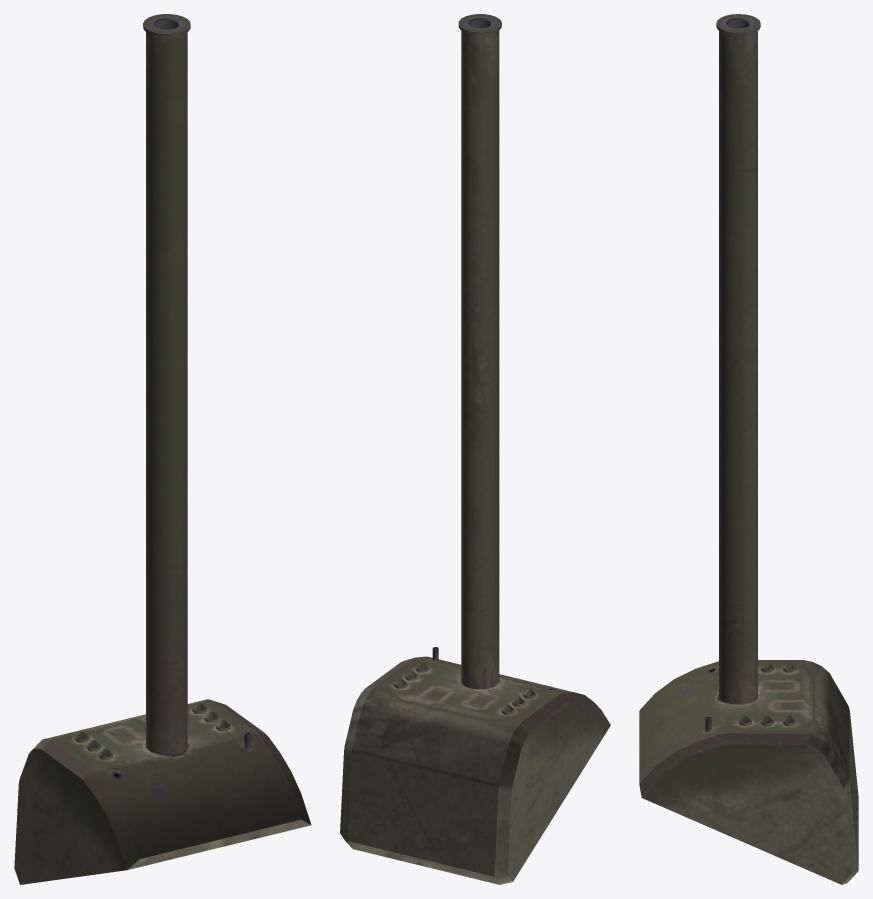
Rendered from Gun_01.glb.
3 renders of one model, left to right at view 1: azimuth 30°, elevation 25°; view 2: azimuth 150°, elevation 25°; view 3: azimuth 270°, elevation 25°, orthographic. The views are drawn at different scales.
Parts seen in each view (by area): view 1: set_0_group_0; view 2: set_0_group_0; view 3: set_0_group_0.
Boxes of the visible parts, <box> form: set_0_group_0: <box>14,14,311,884</box>; set_0_group_0: <box>340,14,610,884</box>; set_0_group_0: <box>639,14,858,884</box>.
Bounding box in the file's own units: 0.7475 × 3.43 × 0.8277.
1 material, 1 textured.
